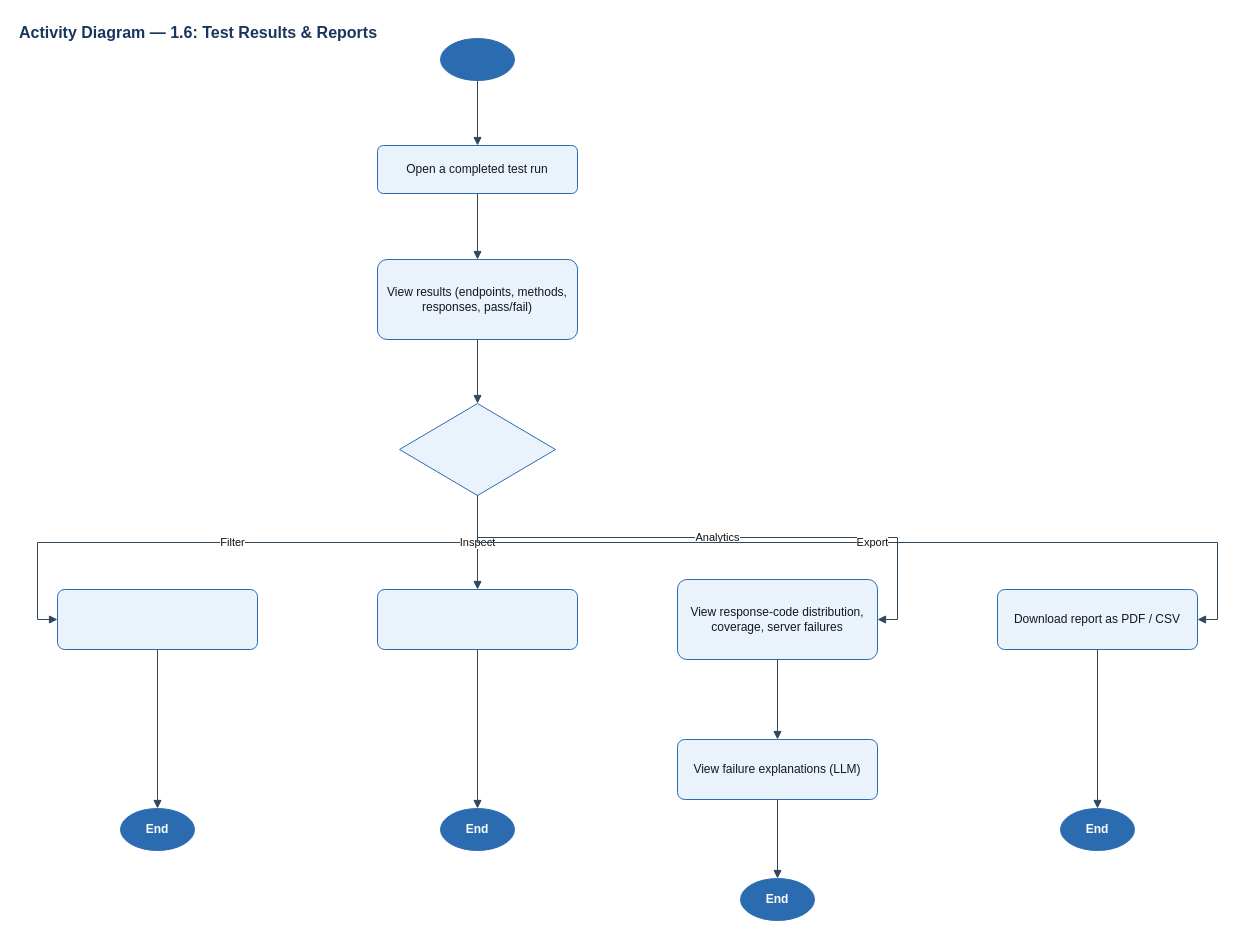
This 1243x938 diagram has some shape labels left out. Here are the shapes that lost their labels. From the top down, the centre of each, then its label:
the point at 477,59: Start
the point at 477,449: Next action?
the point at 157,619: Filter by endpoint / status / response code
the point at 477,619: View captured requests and responses
